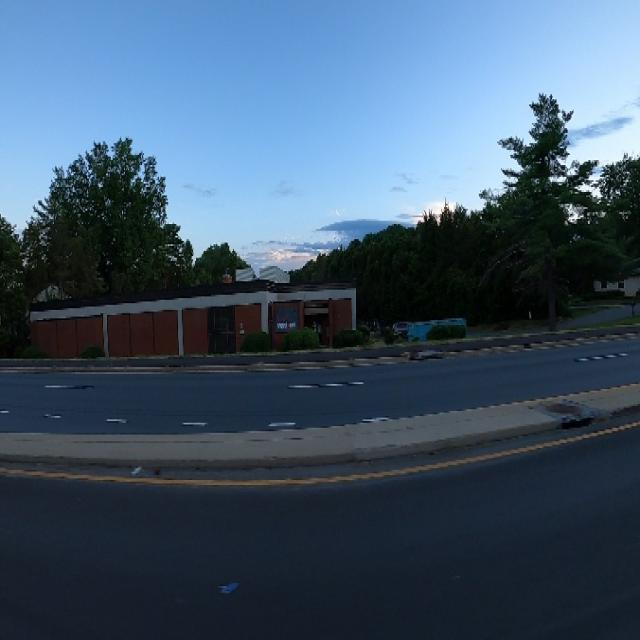cars: (388, 315, 413, 346)
